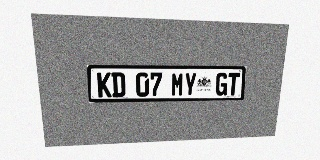0: (136, 72, 149, 97)
7: (149, 72, 162, 97)
D: (111, 72, 125, 97)
G: (215, 73, 228, 96)
K: (97, 72, 112, 97)
M: (171, 72, 184, 96)
T: (227, 73, 240, 95)
Y: (184, 72, 197, 96)
